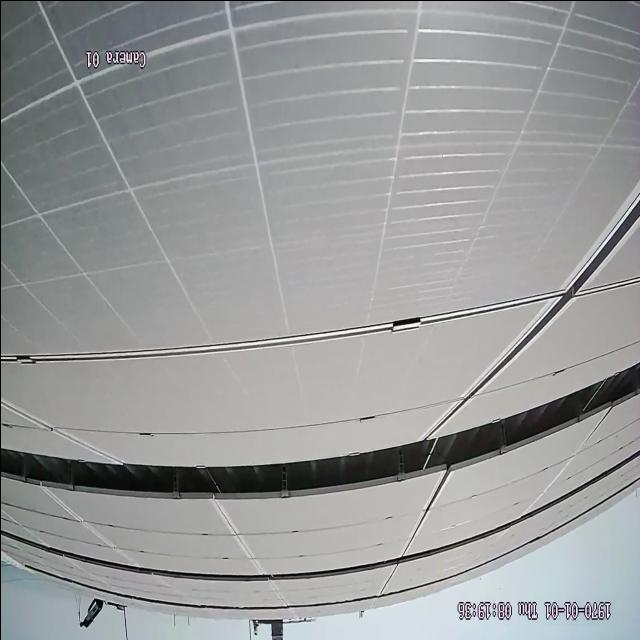interior panel: (6, 177, 639, 438), (2, 401, 121, 457), (44, 489, 133, 559), (395, 476, 453, 553), (209, 505, 262, 569)
outher panel: (3, 360, 640, 499)
